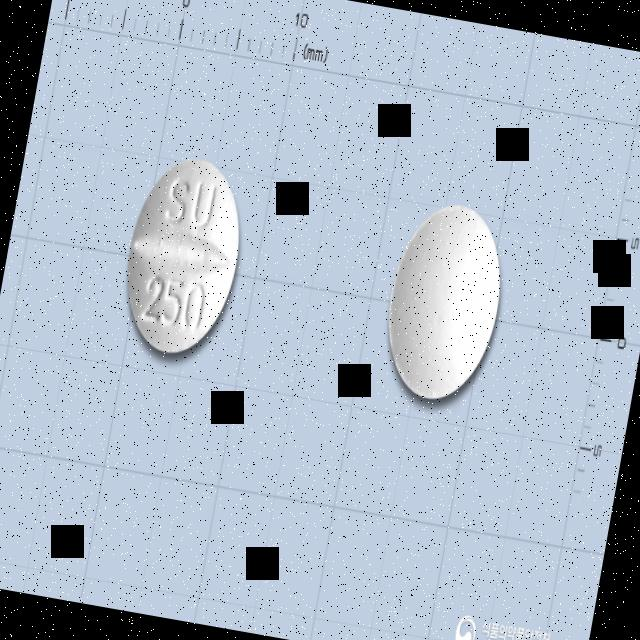Ciptec: (110, 145, 260, 368)
